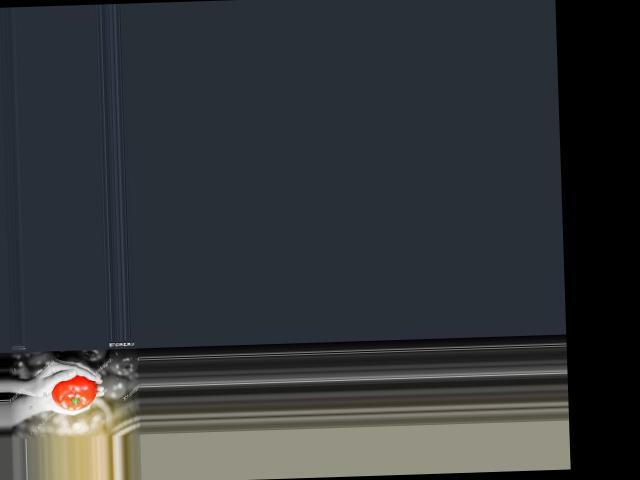tomato: (50, 374, 97, 410)
